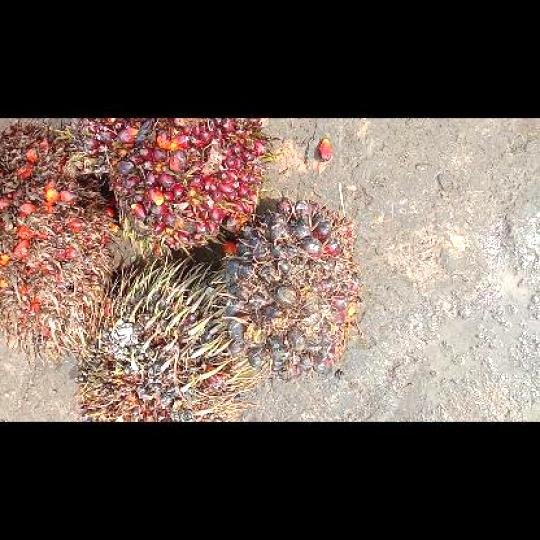masak: (79, 118, 269, 256)
terlalu masak: (0, 117, 118, 358)
